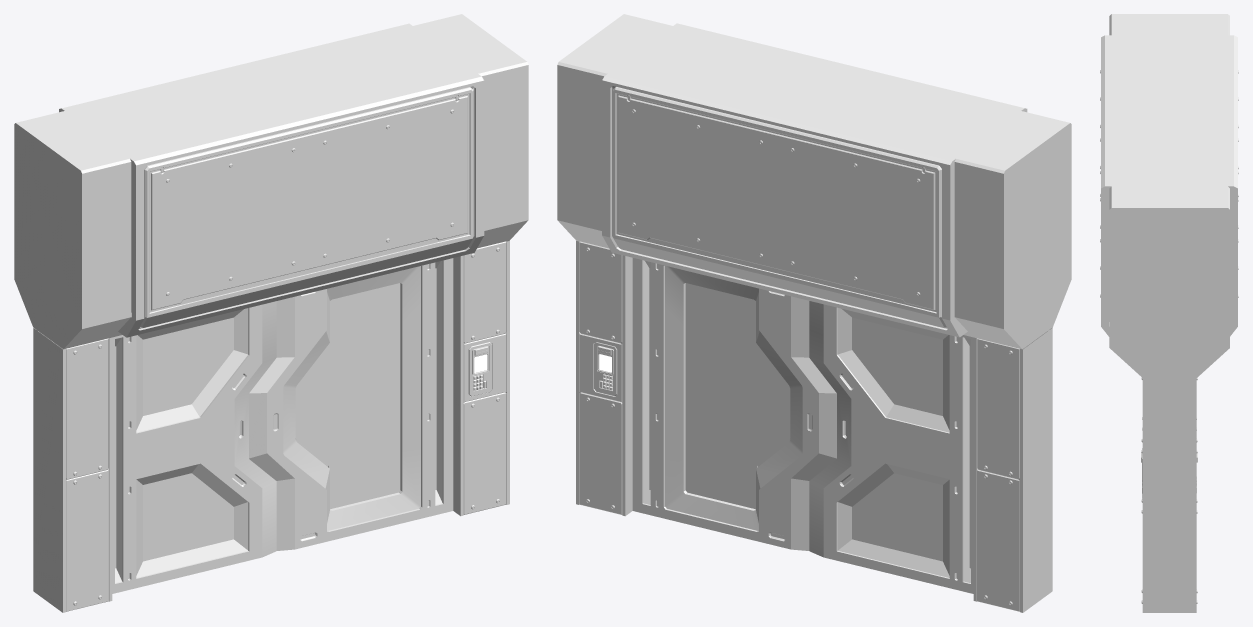
Rendered from KB3D_FTW_PropDoubleDoor_C_grp.glb.
The picture shows the model from 3 angles, left to right: view 1: azimuth 30°, elevation 25°; view 2: azimuth 150°, elevation 25°; view 3: azimuth 270°, elevation 25°; orthographic projection. The views are drawn at different scales.
Parts seen in each view (by area): view 1: KB3D_FTW_PropDoubleDoor_C_Frame, KB3D_FTW_PropDoubleDoor_C_DoorRght, KB3D_FTW_PropDoubleDoor_C_DoorLeft; view 2: KB3D_FTW_PropDoubleDoor_C_Frame, KB3D_FTW_PropDoubleDoor_C_DoorRght, KB3D_FTW_PropDoubleDoor_C_DoorLeft; view 3: KB3D_FTW_PropDoubleDoor_C_Frame.
Part boxes in pixels (left/top/right/bottom): KB3D_FTW_PropDoubleDoor_C_Frame: left=14, top=14, right=528, bottom=612; KB3D_FTW_PropDoubleDoor_C_DoorRght: left=249, top=258, right=453, bottom=550; KB3D_FTW_PropDoubleDoor_C_DoorLeft: left=112, top=301, right=276, bottom=593; KB3D_FTW_PropDoubleDoor_C_Frame: left=557, top=14, right=1071, bottom=612; KB3D_FTW_PropDoubleDoor_C_DoorRght: left=632, top=258, right=836, bottom=550; KB3D_FTW_PropDoubleDoor_C_DoorLeft: left=809, top=301, right=973, bottom=593; KB3D_FTW_PropDoubleDoor_C_Frame: left=1100, top=14, right=1238, bottom=612.
Bounding box in the file's own units: 5.13 × 5 × 1.55.
Materials: 10 (1 with a texture image).
